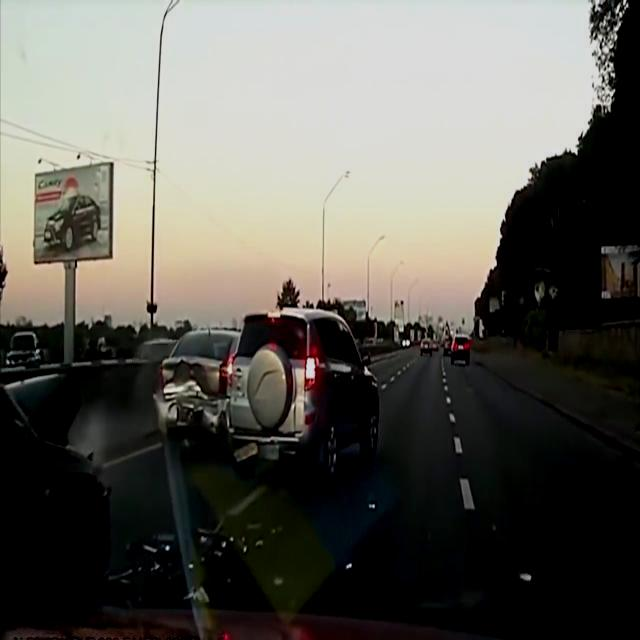accident: (156, 309, 380, 476)
